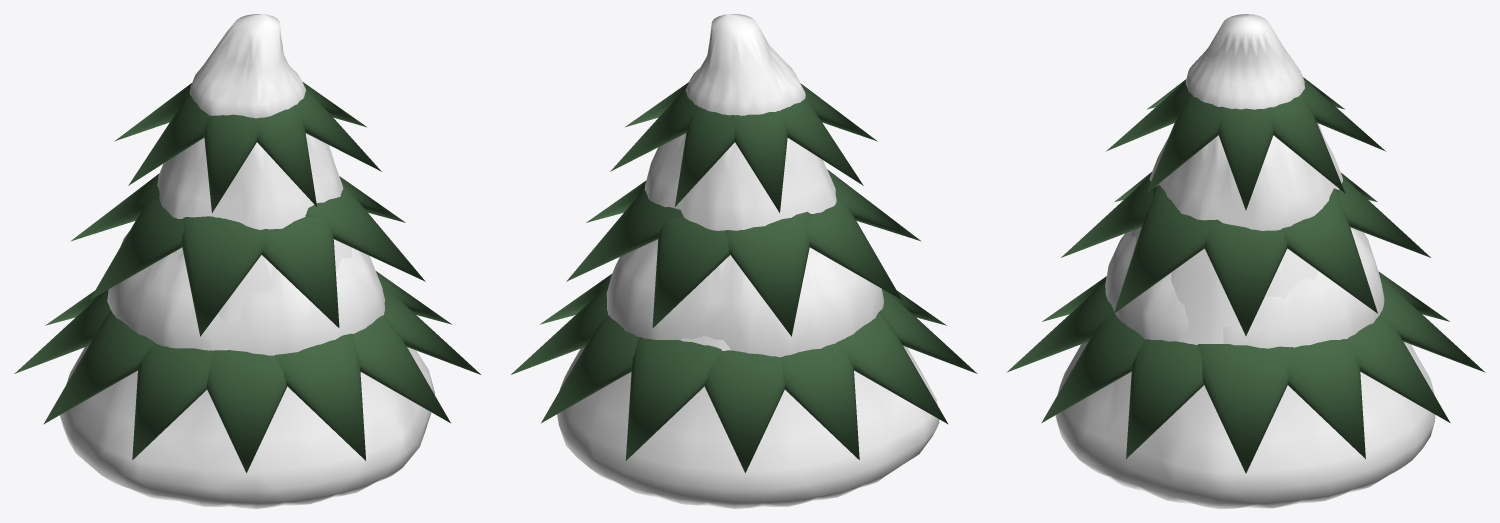
File: tree.obj
The picture shows the model from 3 angles, left to right: view 1: azimuth 30°, elevation 25°; view 2: azimuth 150°, elevation 25°; view 3: azimuth 270°, elevation 25°; orthographic projection.
Visible parts, largest first — view 1: snow1, snow3, snow2, snow4, sheet12, sheet1, sheet20, sheet11, sheet13, sheet10, sheet2, sheet16 (+12 smaller); view 2: snow1, snow3, snow2, snow4, sheet7, sheet8, sheet19, sheet9, sheet15, sheet10, sheet6, sheet16 (+12 smaller); view 3: snow1, snow3, snow2, snow4, sheet4, sheet3, sheet5, sheet14, sheet17, sheet18, sheet2, sheet6 (+10 smaller).
Boxes of the visible parts, bbox=[...] form: snow1: bbox=[60, 239, 434, 508]; snow3: bbox=[107, 231, 384, 355]; snow2: bbox=[157, 133, 343, 229]; snow4: bbox=[189, 14, 305, 118]; sheet12: bbox=[206, 350, 287, 472]; sheet1: bbox=[274, 333, 365, 460]; sheet20: bbox=[181, 216, 268, 336]; sheet11: bbox=[132, 343, 212, 459]; sheet13: bbox=[262, 201, 339, 327]; sheet10: bbox=[43, 310, 155, 424]; sheet2: bbox=[353, 315, 450, 423]; sheet16: bbox=[90, 199, 213, 299]; snow1: bbox=[557, 247, 939, 508]; snow3: bbox=[606, 239, 883, 357]; snow2: bbox=[644, 133, 836, 230]; snow4: bbox=[685, 14, 805, 115]; sheet7: bbox=[625, 337, 721, 460]; sheet8: bbox=[704, 350, 785, 472]; sheet19: bbox=[724, 212, 813, 336]; sheet9: bbox=[780, 343, 859, 459]; sheet15: bbox=[652, 217, 729, 327]; sheet10: bbox=[836, 310, 948, 424]; sheet6: bbox=[541, 315, 638, 423]; sheet16: bbox=[807, 199, 901, 299]; snow1: bbox=[1055, 227, 1435, 508]; snow3: bbox=[1105, 227, 1384, 348]; snow2: bbox=[1149, 123, 1342, 230]; snow4: bbox=[1185, 14, 1304, 109]; sheet4: bbox=[1197, 344, 1293, 473]; sheet3: bbox=[1126, 339, 1203, 458]; sheet5: bbox=[1288, 339, 1365, 458]; sheet14: bbox=[1204, 223, 1287, 335]; sheet17: bbox=[1114, 185, 1222, 313]; sheet18: bbox=[1281, 188, 1377, 313]; sheet2: bbox=[1041, 313, 1144, 422]; sheet6: bbox=[1347, 315, 1450, 422].
Bounding box in the file's own units: 2.66 × 2.59 × 2.66.
